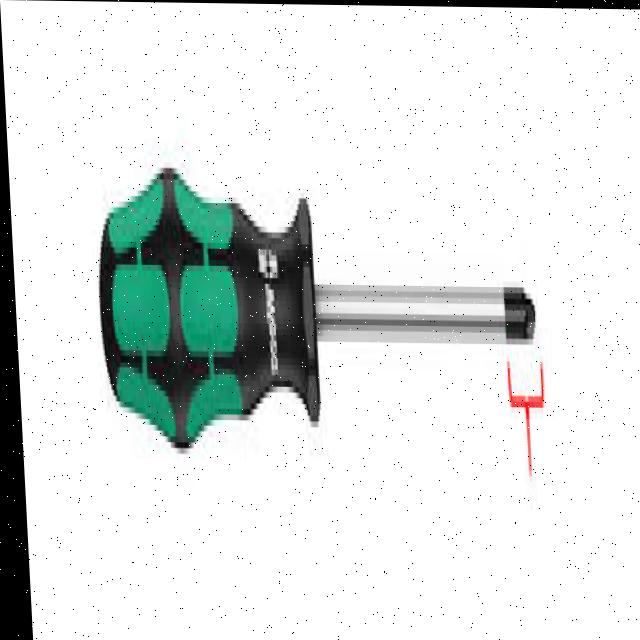Screwdriver: (99, 168, 531, 446)
